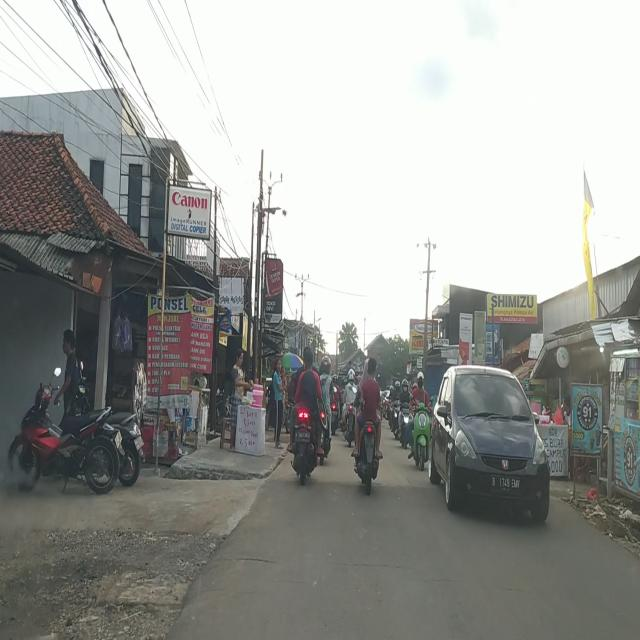Sewer Cover: (333, 554, 410, 569), (218, 552, 281, 566)
